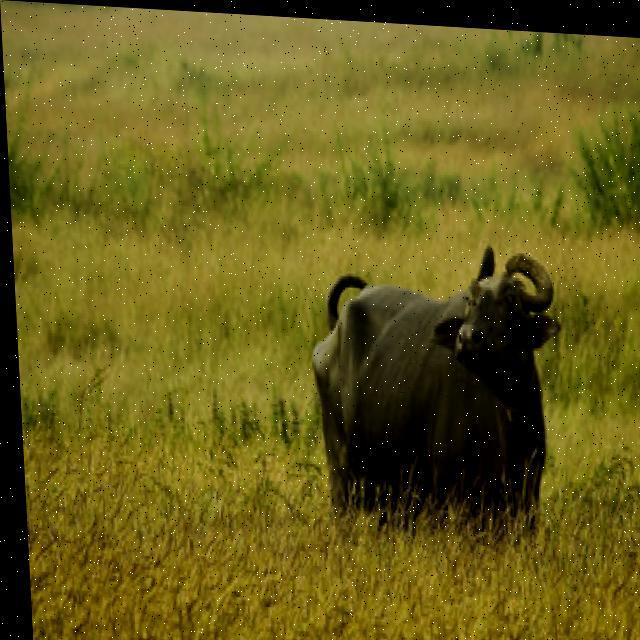Buffalo: (302, 230, 573, 545)
